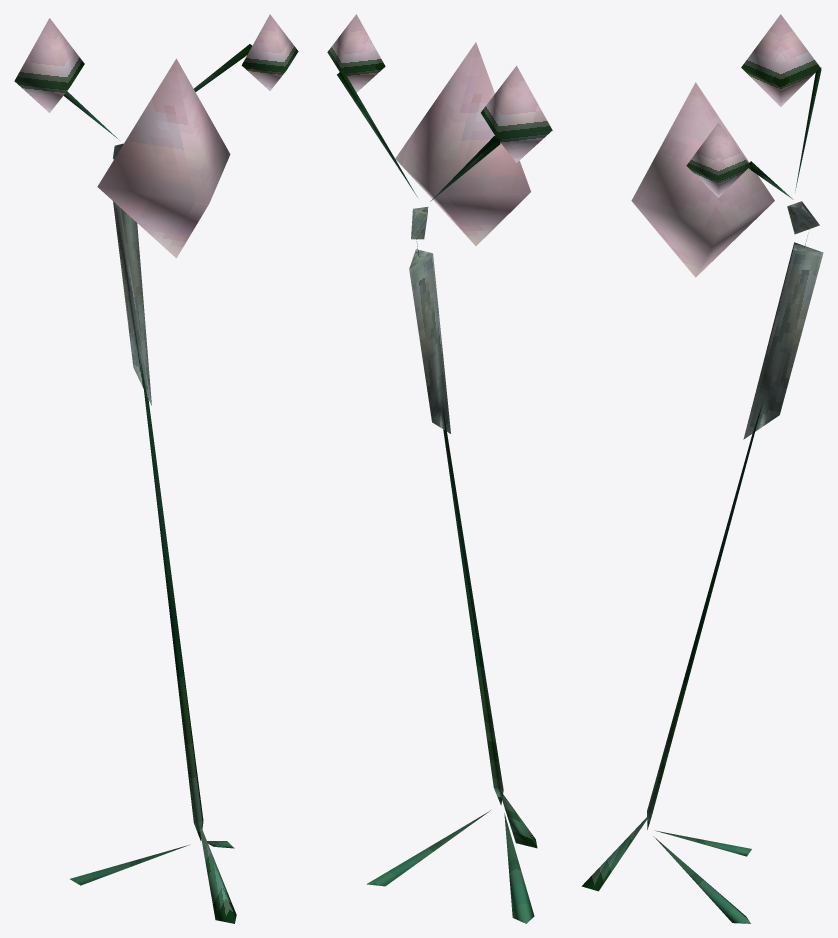
The model's file is frn_all_lamp_free_s4_l3.fbx.
3 views of the same model, side by side, from view 1: azimuth 30°, elevation 25°; view 2: azimuth 150°, elevation 25°; view 3: azimuth 270°, elevation 25° (orthographic). The views are drawn at different scales.
Visible parts, largest first — view 1: mesh_node; view 2: mesh_node; view 3: mesh_node.
Part boxes in pixels (left/top/right/bottom): mesh_node: left=14, top=14, right=298, bottom=923; mesh_node: left=327, top=14, right=552, bottom=923; mesh_node: left=581, top=14, right=823, bottom=923.
Size of the model in its own units: 0.561 by 1.81 by 0.477.
